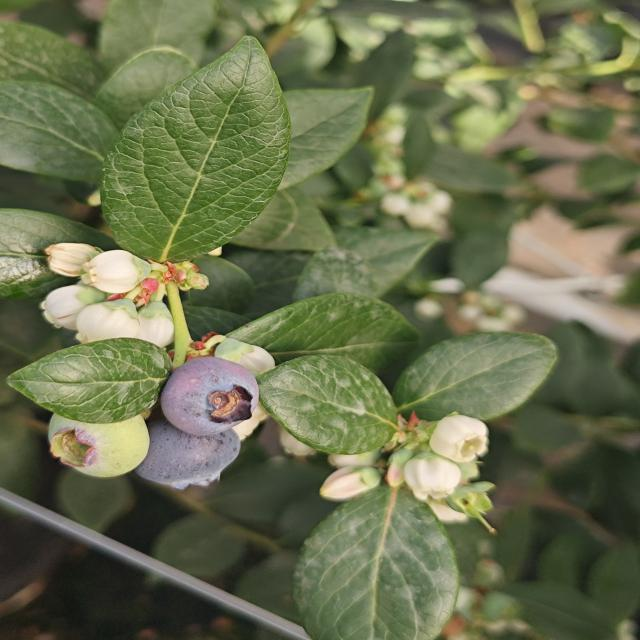ripe: (157, 354, 262, 438), (132, 416, 243, 492)
